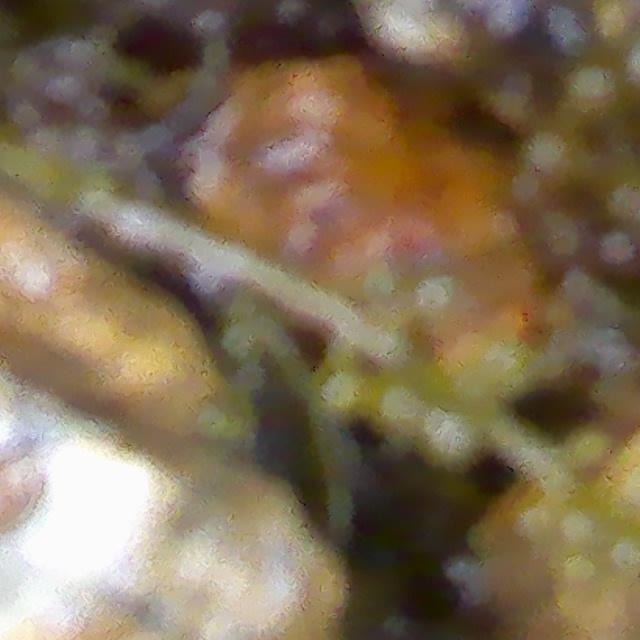SeaGrape: (592, 227, 640, 289)
